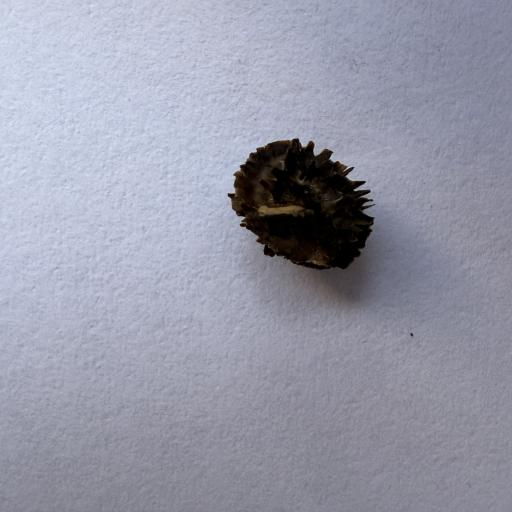papaya_seed: (188, 122, 401, 278)
